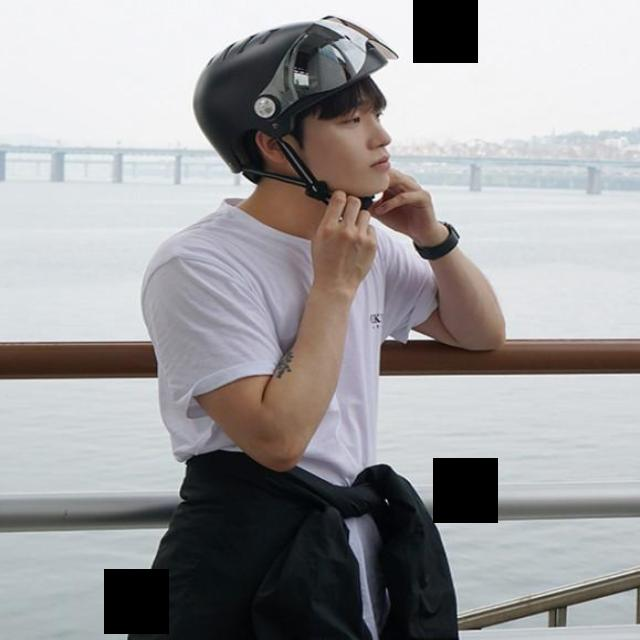Helmet: (190, 16, 400, 204)
